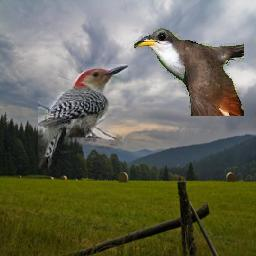Cuckoo: (134, 28, 244, 116)
Woodpecker: (38, 65, 128, 170)
